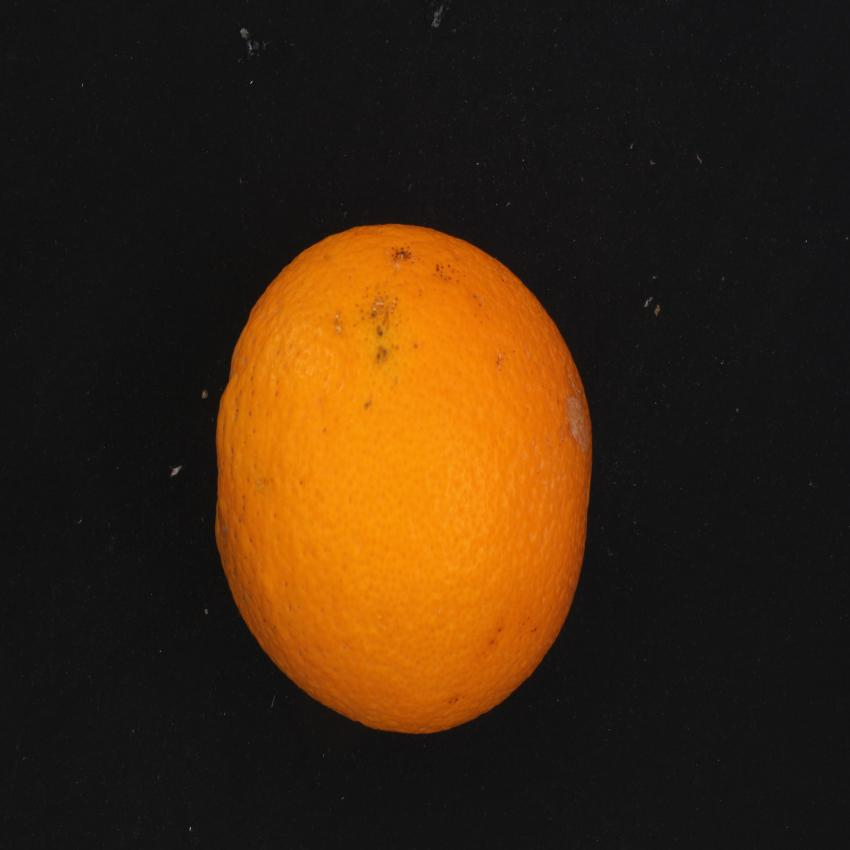Mal estado: (202, 203, 602, 756)
